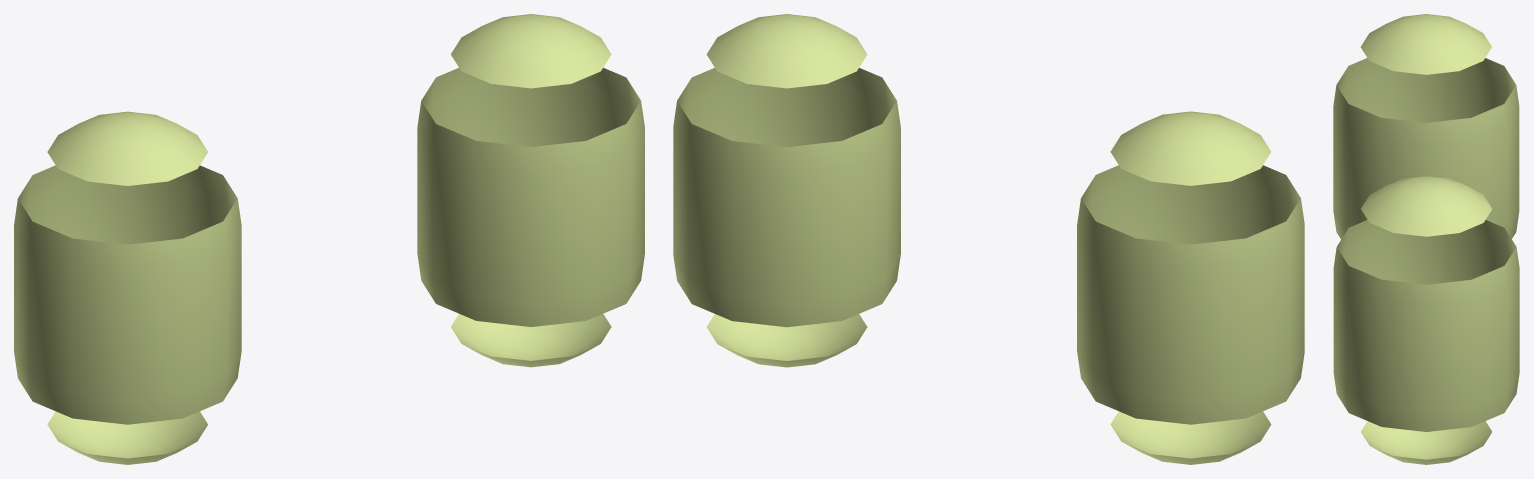
File: strange.DAE
3 views of the same model, side by side, from view 1: azimuth 30°, elevation 25°; view 2: azimuth 150°, elevation 25°; view 3: azimuth 270°, elevation 25° (orthographic). The views are drawn at different scales.
Parts seen in each view (by area): view 1: Capsule01, Capsule02; view 2: Capsule01, Capsule02; view 3: Capsule01, Capsule02.
Part boxes in pixels (x1=…): Capsule01: x1=417, y1=14, x2=644, y2=367; Capsule02: x1=14, y1=111, x2=241, y2=464; Capsule01: x1=673, y1=14, x2=900, y2=367; Capsule02: x1=1077, y1=111, x2=1304, y2=464; Capsule01: x1=1333, y1=176, x2=1519, y2=464; Capsule02: x1=1333, y1=14, x2=1519, y2=239.
Size of the model in its own units: 589 by 194 by 313.
